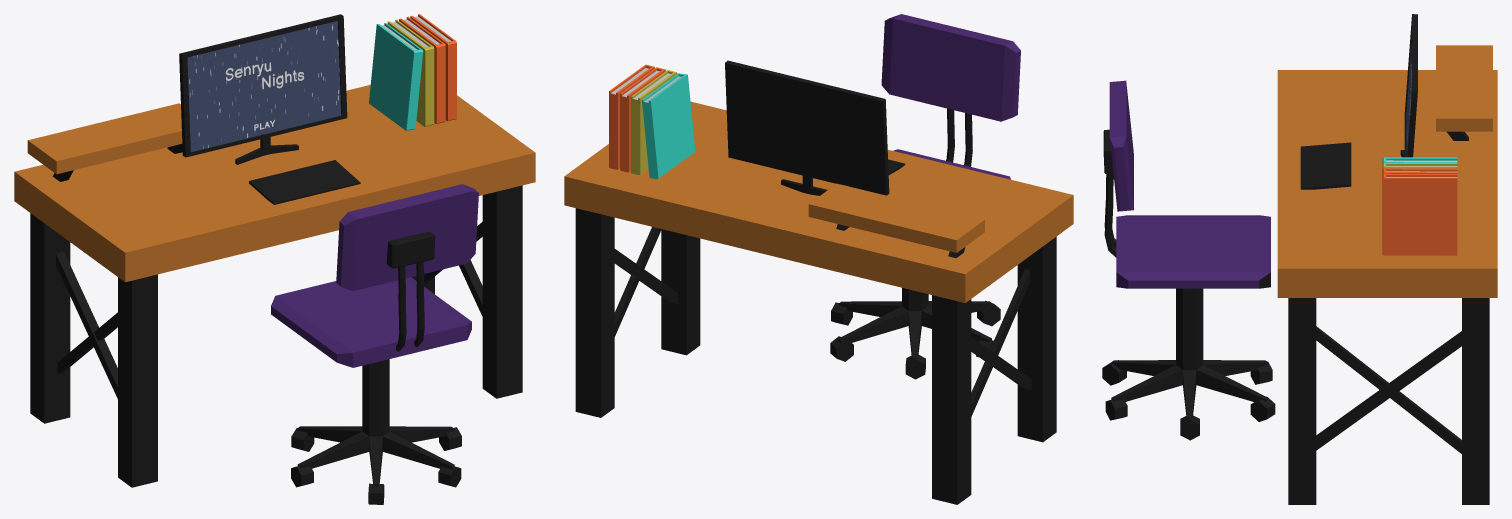
Rendered from desk.obj.
The picture shows the model from 3 angles, left to right: view 1: azimuth 30°, elevation 25°; view 2: azimuth 150°, elevation 25°; view 3: azimuth 270°, elevation 25°; orthographic projection. The views are drawn at different scales.
Visible parts, largest first — view 1: Cube.061_Cube.069, Cylinder.007, Cube.001_Cube.002, Cube.055_Cube.063, Cube.056_Cube.064, Cube.054_Cube.062, Cube.066_Cube.078, Cube.065_Cube.077, Cube_Cube.001, Cube.059_Cube.067, Cube.062_Cube.074, Cube.063_Cube.075 (+4 smaller); view 2: Cube.061_Cube.069, Cylinder.007, Cube.001_Cube.002, Cube.054_Cube.062, Cube.053_Cube.061, Cube.056_Cube.064, Cube.066_Cube.078, Cube.055_Cube.063, Cube.065_Cube.077, Cube.062_Cube.074, Cube.060_Cube.068, Cube.063_Cube.075 (+4 smaller); view 3: Cube.061_Cube.069, Cylinder.007, Cube.064_Cube.076, Cube.055_Cube.063, Cube.053_Cube.061, Cube.066_Cube.078, Cube_Cube.001, Cube.057_Cube.065, Cube.058_Cube.066, Cube.001_Cube.002, Cube.062_Cube.074, Cube.065_Cube.077 (+1 smaller).
Part boxes in pixels (left/top/right/bottom): Cube.061_Cube.069: left=14, top=85, right=535, bottom=282; Cylinder.007: left=271, top=184, right=478, bottom=504; Cube.001_Cube.002: left=179, top=14, right=347, bottom=157; Cube.055_Cube.063: left=482, top=185, right=522, bottom=398; Cube.056_Cube.064: left=118, top=274, right=157, bottom=487; Cube.054_Cube.062: left=30, top=213, right=70, bottom=423; Cube.066_Cube.078: left=27, top=103, right=182, bottom=174; Cube.065_Cube.077: left=369, top=23, right=423, bottom=130; Cube_Cube.001: left=249, top=160, right=360, bottom=204; Cube.059_Cube.067: left=56, top=252, right=117, bottom=398; Cube.062_Cube.074: left=387, top=19, right=434, bottom=126; Cube.063_Cube.075: left=399, top=16, right=445, bottom=123; Cube.061_Cube.069: left=564, top=101, right=1073, bottom=302; Cylinder.007: left=830, top=14, right=1020, bottom=379; Cube.001_Cube.002: left=725, top=60, right=889, bottom=195; Cube.054_Cube.062: left=932, top=295, right=971, bottom=504; Cube.053_Cube.061: left=575, top=208, right=614, bottom=417; Cube.056_Cube.064: left=1017, top=236, right=1056, bottom=442; Cube.066_Cube.078: left=808, top=183, right=984, bottom=252; Cube.055_Cube.063: left=661, top=229, right=700, bottom=355; Cube.065_Cube.077: left=642, top=73, right=695, bottom=179; Cube.062_Cube.074: left=631, top=70, right=677, bottom=174; Cube.060_Cube.068: left=971, top=269, right=1030, bottom=416; Cube.063_Cube.075: left=620, top=67, right=665, bottom=172; Cube.061_Cube.069: left=1277, top=70, right=1497, bottom=297; Cylinder.007: left=1102, top=80, right=1275, bottom=440; Cube.064_Cube.076: left=1382, top=173, right=1457, bottom=255; Cube.055_Cube.063: left=1288, top=298, right=1316, bottom=504; Cube.053_Cube.061: left=1462, top=298, right=1489, bottom=504; Cube.066_Cube.078: left=1436, top=45, right=1492, bottom=131; Cube_Cube.001: left=1300, top=142, right=1351, bottom=189; Cube.057_Cube.065: left=1316, top=331, right=1461, bottom=450; Cube.058_Cube.066: left=1316, top=326, right=1461, bottom=453; Cube.001_Cube.002: left=1404, top=14, right=1417, bottom=157; Cube.062_Cube.074: left=1382, top=163, right=1457, bottom=169; Cube.065_Cube.077: left=1382, top=157, right=1457, bottom=163.
Size of the model in its own units: 4.28 by 3.58 by 3.6.
